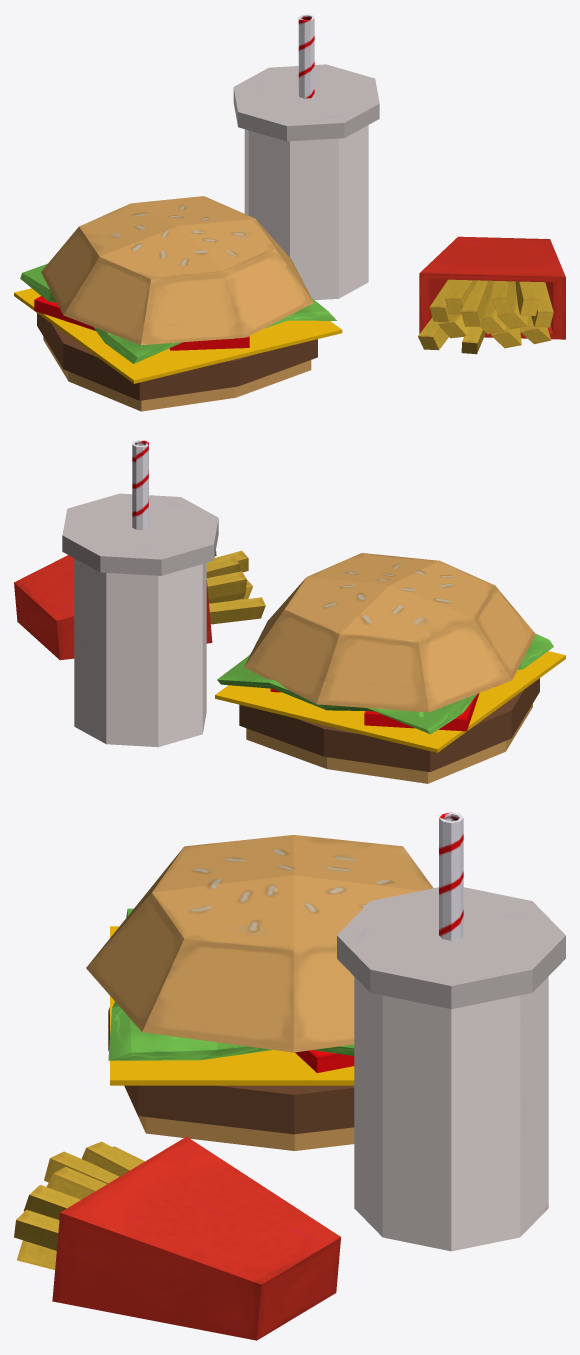
File: Home.glb
3 renders of one model, top to bottom at view 1: azimuth 30°, elevation 25°; view 2: azimuth 150°, elevation 25°; view 3: azimuth 270°, elevation 25°, orthographic. The views are drawn at different scales.
Parts seen in each view (by area): view 1: Burguer, Soda, Fries, Batata.000, Batata.008, Batata.010, Batata.012, Batata.009, Batata.001, Batata.011, Batata.003, Batata.002; view 2: Burguer, Soda, Fries, Batata.001, Batata.011, Batata.012; view 3: Burguer, Soda, Fries, Batata.009, Batata.012, Batata.008, Batata.010, Batata.000, Batata.006.
Part boxes in pixels (x1,y1,x2,y2): Burguer: (14,196,342,411); Soda: (233,14,379,299); Fries: (419,236,565,339); Batata.000: (461,280,493,326); Batata.008: (491,281,515,314); Batata.010: (515,281,538,315); Batata.012: (445,280,477,314); Batata.009: (531,282,553,327); Batata.001: (418,317,448,350); Batata.011: (429,279,457,321); Batata.003: (480,297,506,334); Batata.002: (461,326,485,354); Burguer: (215,553,565,783); Soda: (62,440,218,747); Fries: (14,555,212,660); Batata.001: (209,597,265,624); Batata.011: (206,571,246,599); Batata.012: (206,556,240,577); Burguer: (86,835,433,1150); Soda: (337,812,565,1251); Fries: (52,1136,340,1340); Batata.009: (14,1209,59,1250); Batata.012: (81,1141,141,1176); Batata.008: (46,1167,106,1199); Batata.010: (23,1185,80,1219); Batata.000: (44,1151,119,1183); Batata.006: (17,1240,56,1269).
Size of the model in its own units: 1.83 by 0.946 by 1.21.
Materials: 2 (2 with a texture image).
